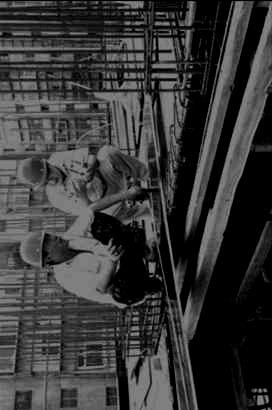helmet: (19, 229, 69, 270), (17, 156, 63, 193)
